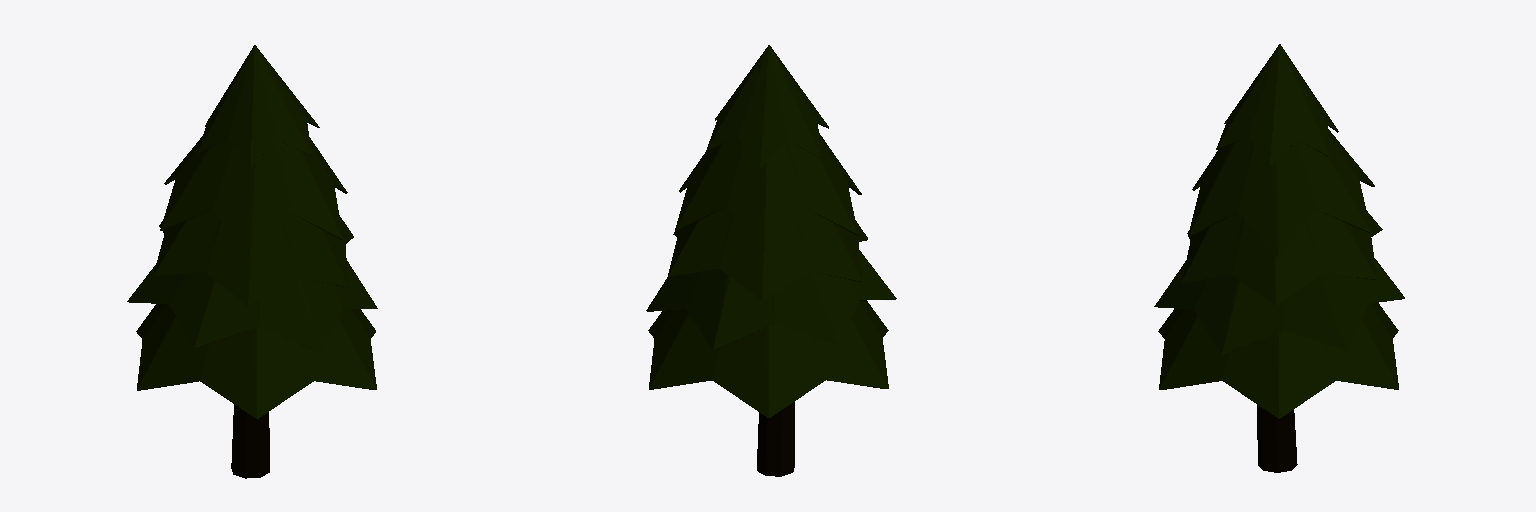
File: tree_lvl_10.obj
The picture shows the model from 3 angles: view 1: azimuth 30°, elevation 25°; view 2: azimuth 150°, elevation 25°; view 3: azimuth 270°, elevation 25°; orthographic projection.
Size of the model in its own units: 5.11 by 8.61 by 4.63.